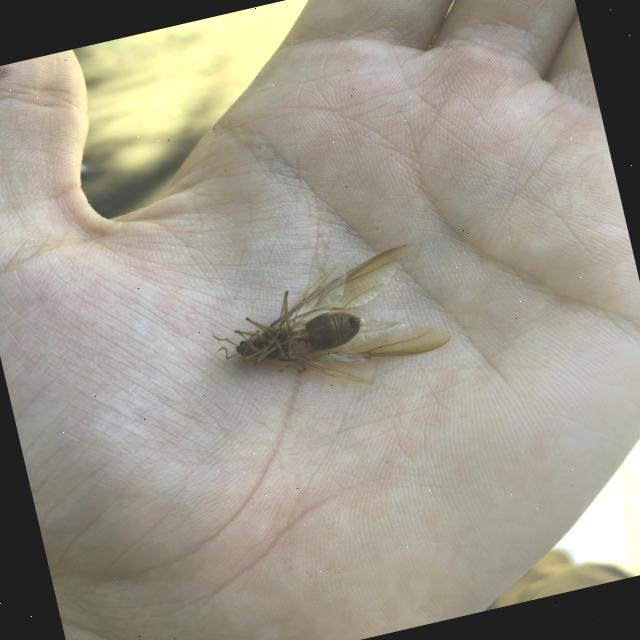Dead-Male-Alate: (202, 238, 458, 416)
